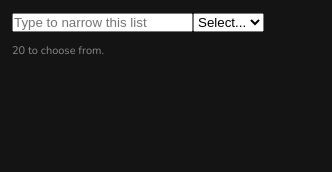
Test: typing narrows the list and the count says how much is being shown
Expected: the text with test id "student-count" shows "20 to choose from", [12,43,104,58]
In the search field with test id "student-search": (102, 22) [12,13,193,32], type "Child 1"
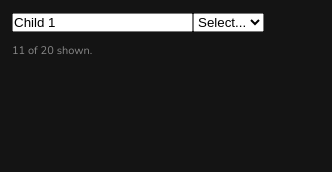
Expected: the text with test id "student-count" shows "11 of 20 shown", [12,43,92,58]
